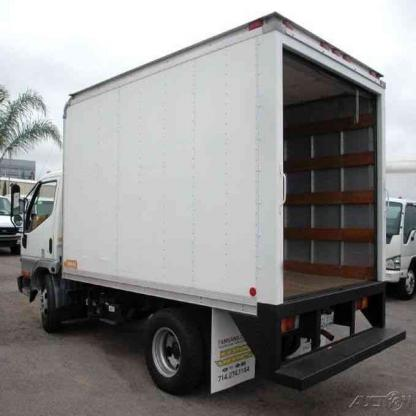truck: (11, 12, 406, 396)
